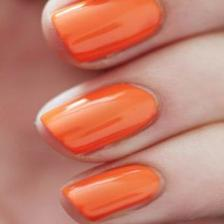orange: (41, 83, 158, 154), (53, 0, 160, 63), (63, 165, 161, 221)
